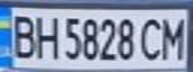2: (96, 15, 121, 62)
5: (60, 14, 81, 61)
8: (115, 15, 139, 62), (78, 15, 100, 62)
B: (6, 11, 39, 60)
C: (136, 15, 166, 62)
H: (30, 12, 60, 61)
M: (157, 12, 190, 61)
